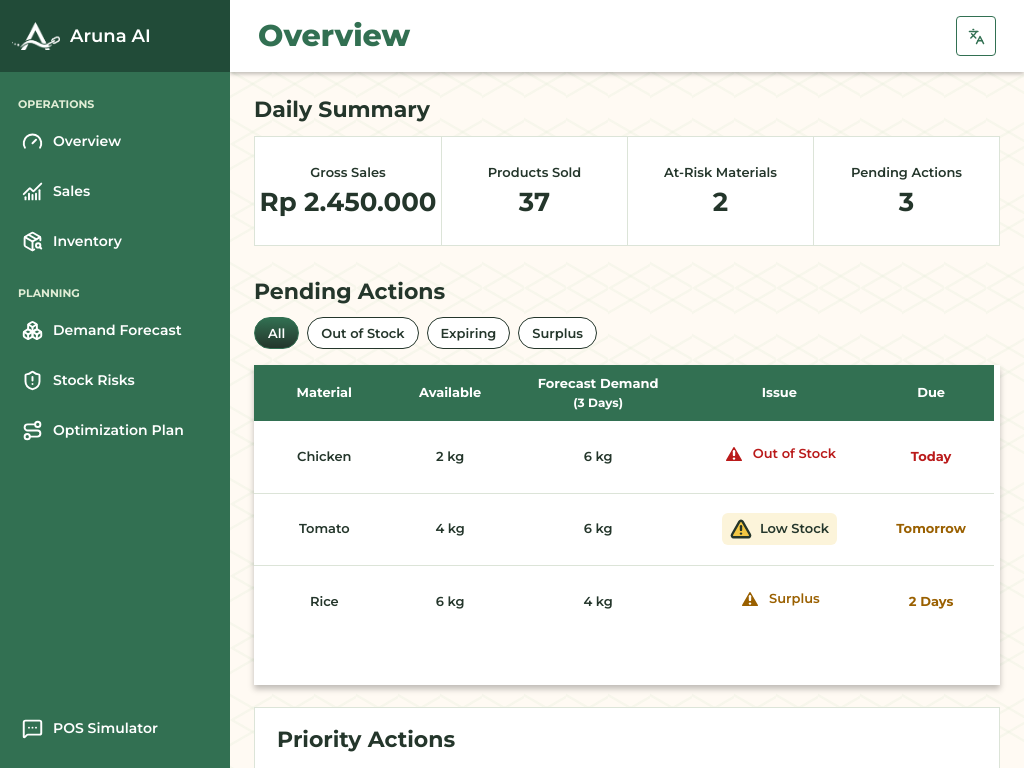
Test: DashboardPage › shows the Ringkasan data and filters pending actions
Expected: the text "Gross Sales" is shown, top-left (310, 164), bottom-right (386, 180)
Expected: the text "Chicken" is shown, top-left (254, 421), bottom-right (395, 493)
Click the button "Expiring".
click(468, 333)  # box top-left (426, 317), bottom-right (510, 349)
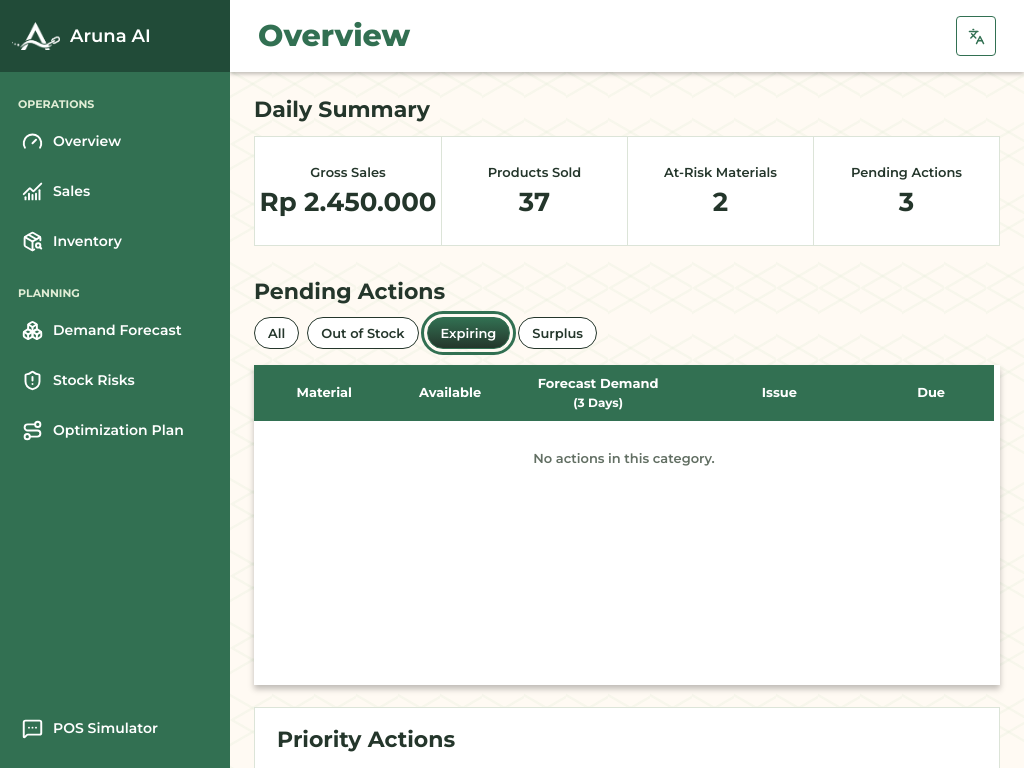
Expected: the text "Chicken" is gone
Expected: the text "No actions in this category." is shown, top-left (254, 421), bottom-right (994, 637)
Click the button named "Switch to Bahasa Indonesia".
click(976, 36)  # box top-left (956, 16), bottom-right (996, 56)
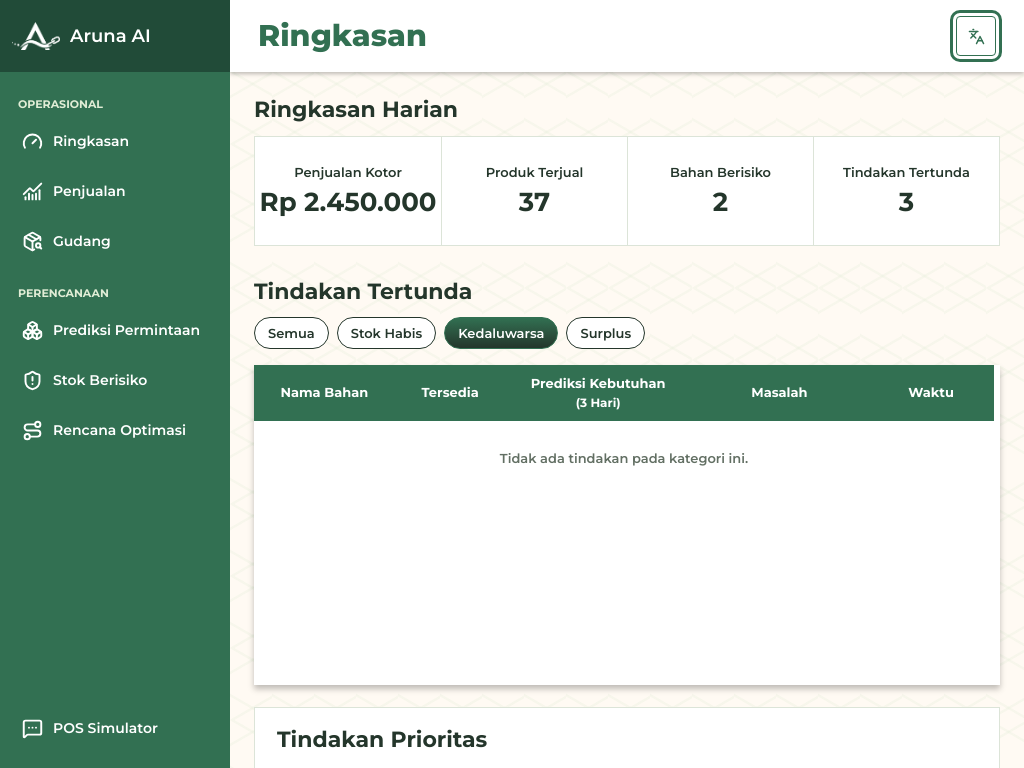
Expected: the heading "Ringkasan" is shown, top-left (258, 21), bottom-right (427, 51)
